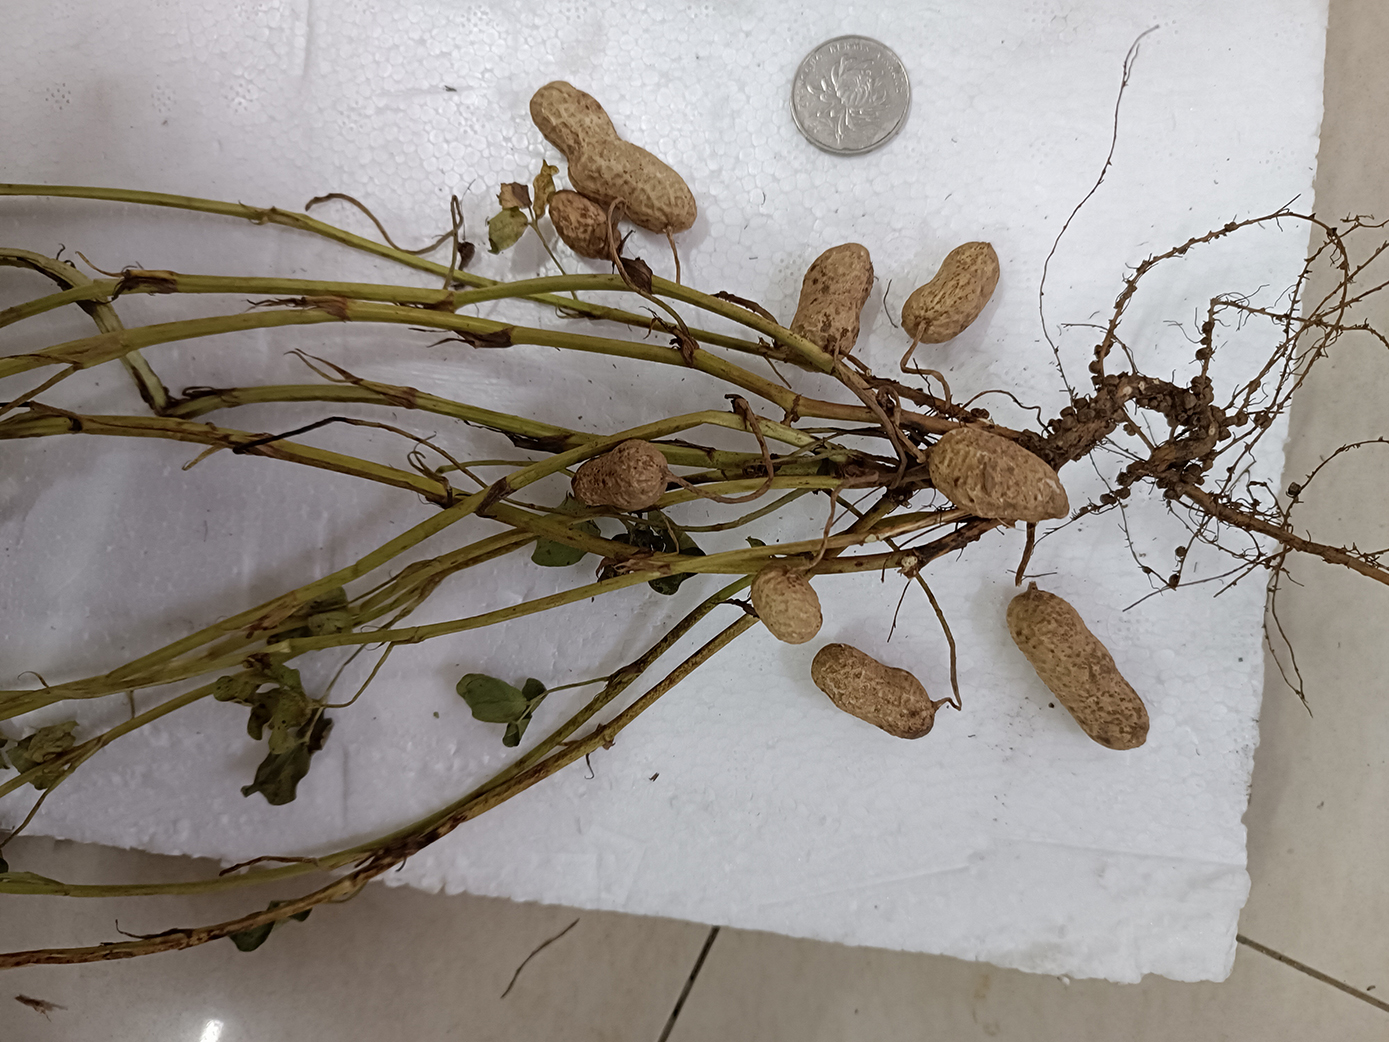h: (528, 80, 696, 234), (1005, 591, 1150, 751), (925, 426, 1069, 523), (811, 644, 933, 738), (900, 239, 1000, 346), (788, 241, 876, 359), (570, 437, 667, 512), (753, 560, 823, 645)
l: (546, 189, 622, 259)
